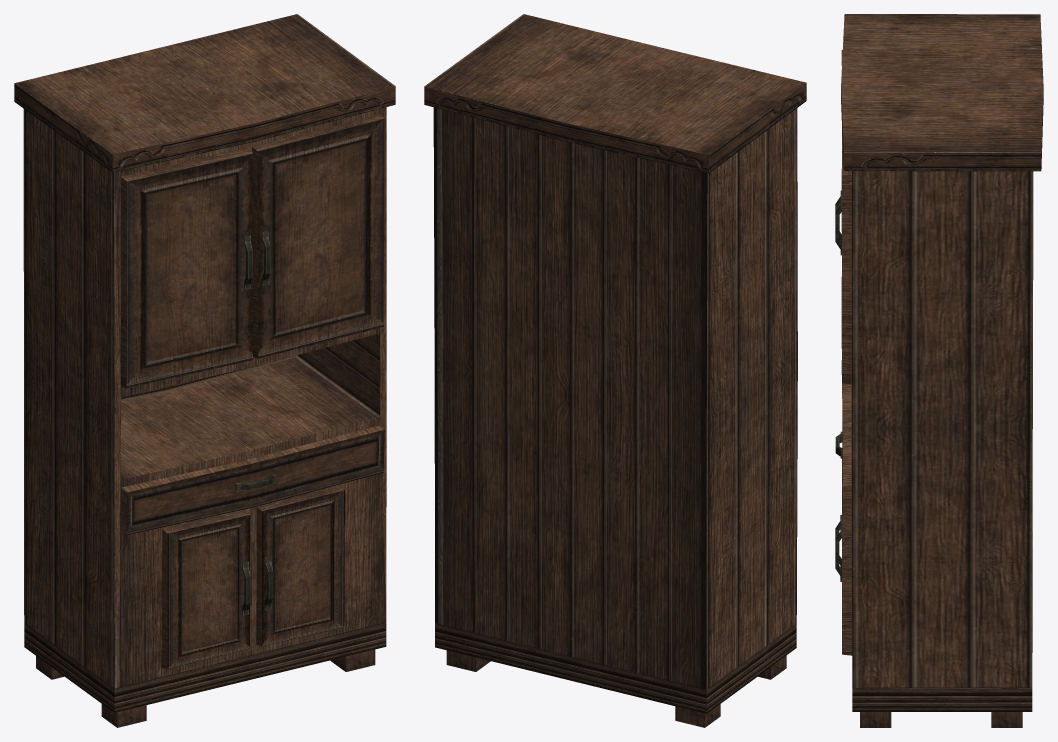
File: GS_VOB_WARDROBE_ORANGE_01_KOZA.glb
The picture shows the model from 3 angles, left to right: view 1: azimuth 30°, elevation 25°; view 2: azimuth 150°, elevation 25°; view 3: azimuth 270°, elevation 25°; orthographic projection.
Parts seen in each view (by area): view 1: GS_VOB_WARDROBE_ORANGE_01_KOZA; view 2: GS_VOB_WARDROBE_ORANGE_01_KOZA; view 3: GS_VOB_WARDROBE_ORANGE_01_KOZA.
Boxes of the visible parts, x1,y1,x2,y2 form: GS_VOB_WARDROBE_ORANGE_01_KOZA: [14, 14, 395, 727]; GS_VOB_WARDROBE_ORANGE_01_KOZA: [424, 14, 806, 727]; GS_VOB_WARDROBE_ORANGE_01_KOZA: [835, 14, 1043, 727].
Bounding box in the file's own units: 1.48 × 2.91 × 0.9415.
Materials: 3 (3 with a texture image).
